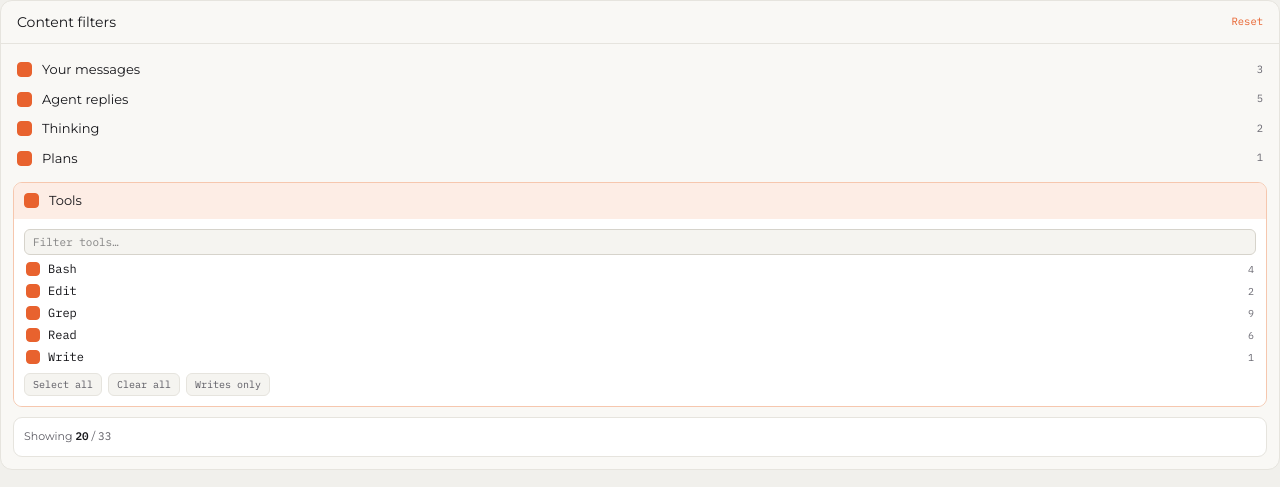
Test: SessionFilterPanel › scopes the quick actions to the queried subset
This screenshot has width=1280, height=487.
Type "re" into the search field named "Filter tool names" at (640, 242), box [24, 228, 1256, 255]
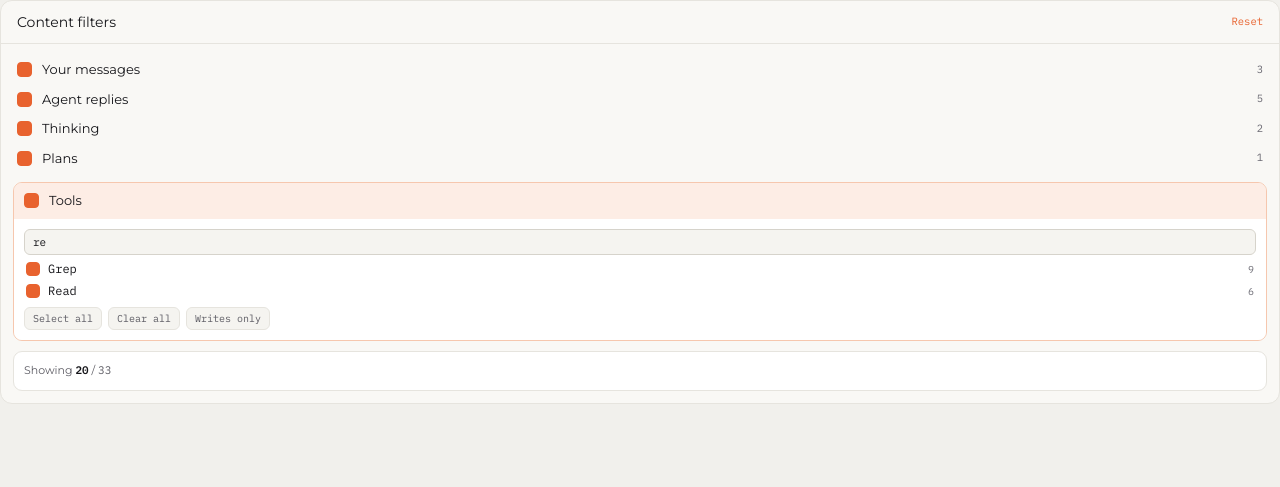
Click the button "Clear all" at (144, 318), box [108, 307, 180, 330]
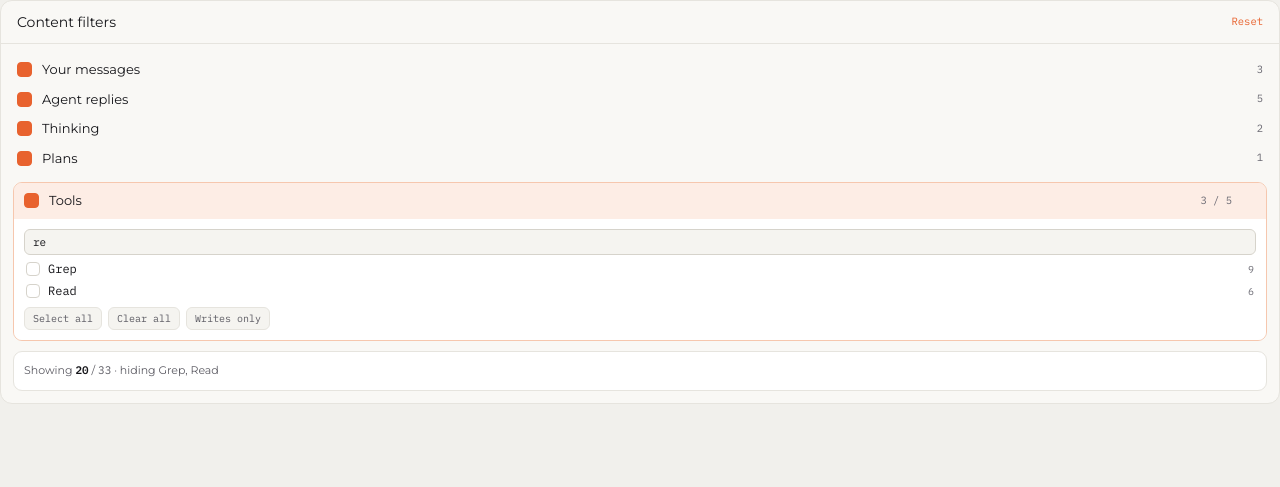
Expected: the text "3 / 5" is shown, [1200, 193, 1232, 209]
